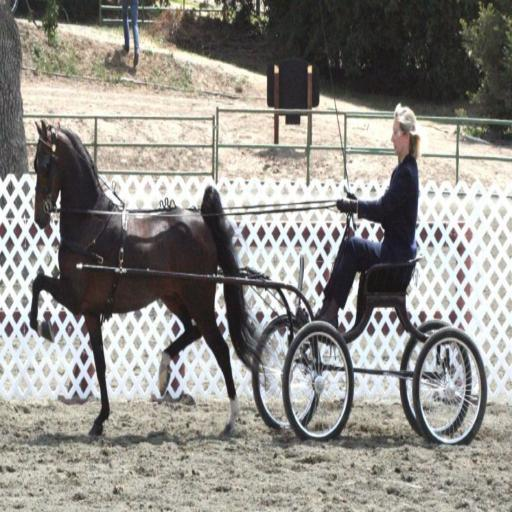horse: (28, 116, 268, 444)
